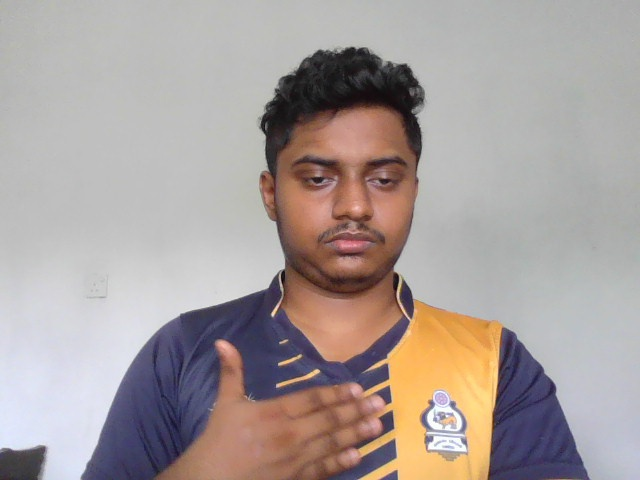Please: (198, 340, 387, 480)
